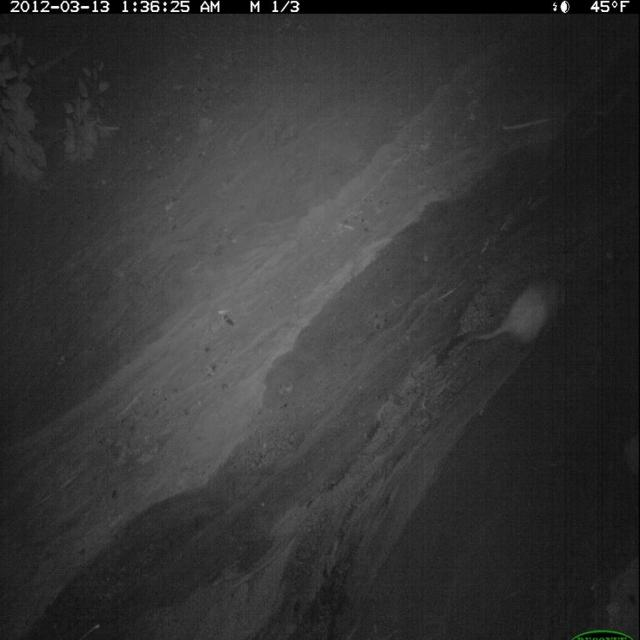opossum: (450, 271, 578, 366)
